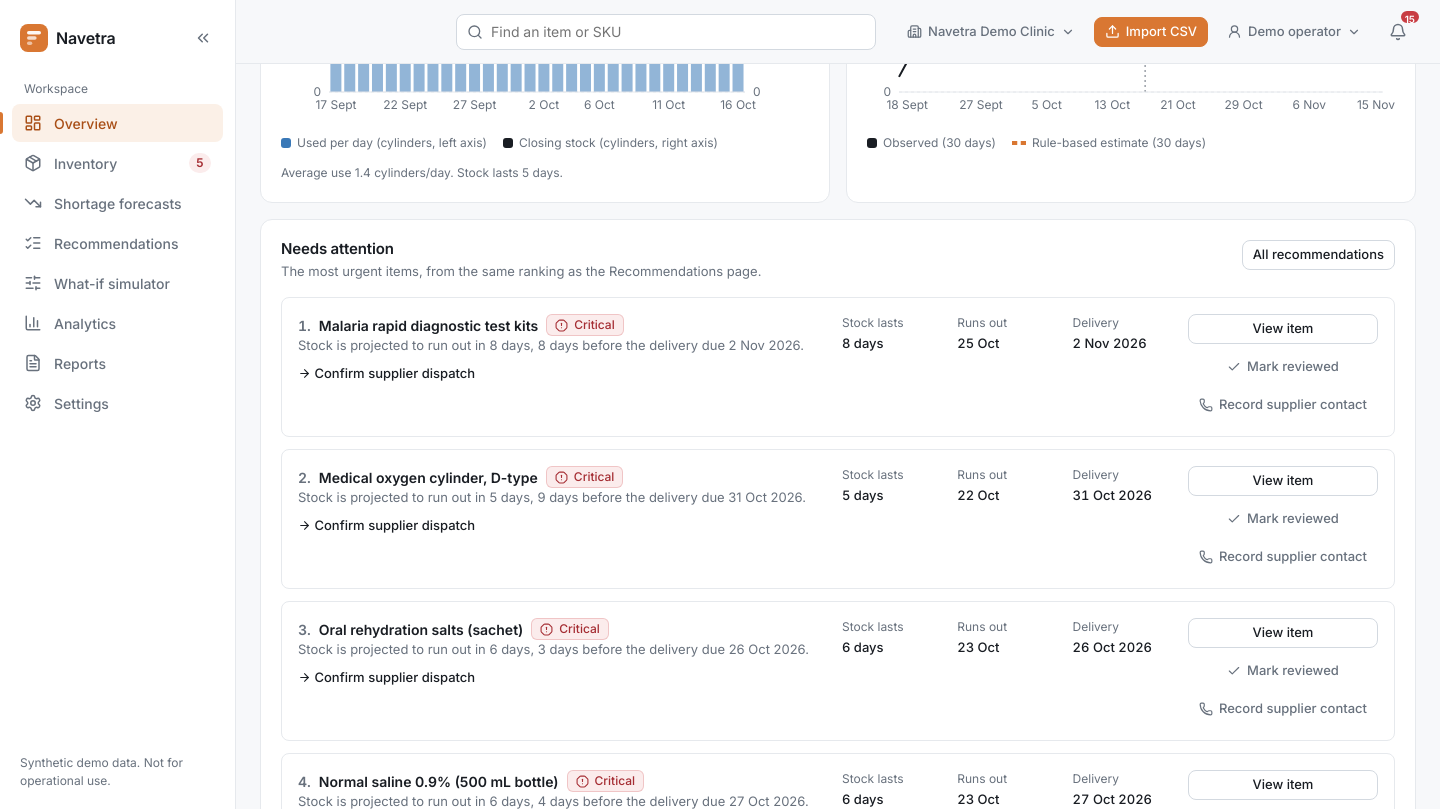
Test: every page renders with the demo data › records a supplier contact only as a note, through a dialog
The image size is (1440, 809).
(page scrolled)
Click the 1st button "Record supplier contact".
click(1283, 405)  # box [1188,390,1378,420]
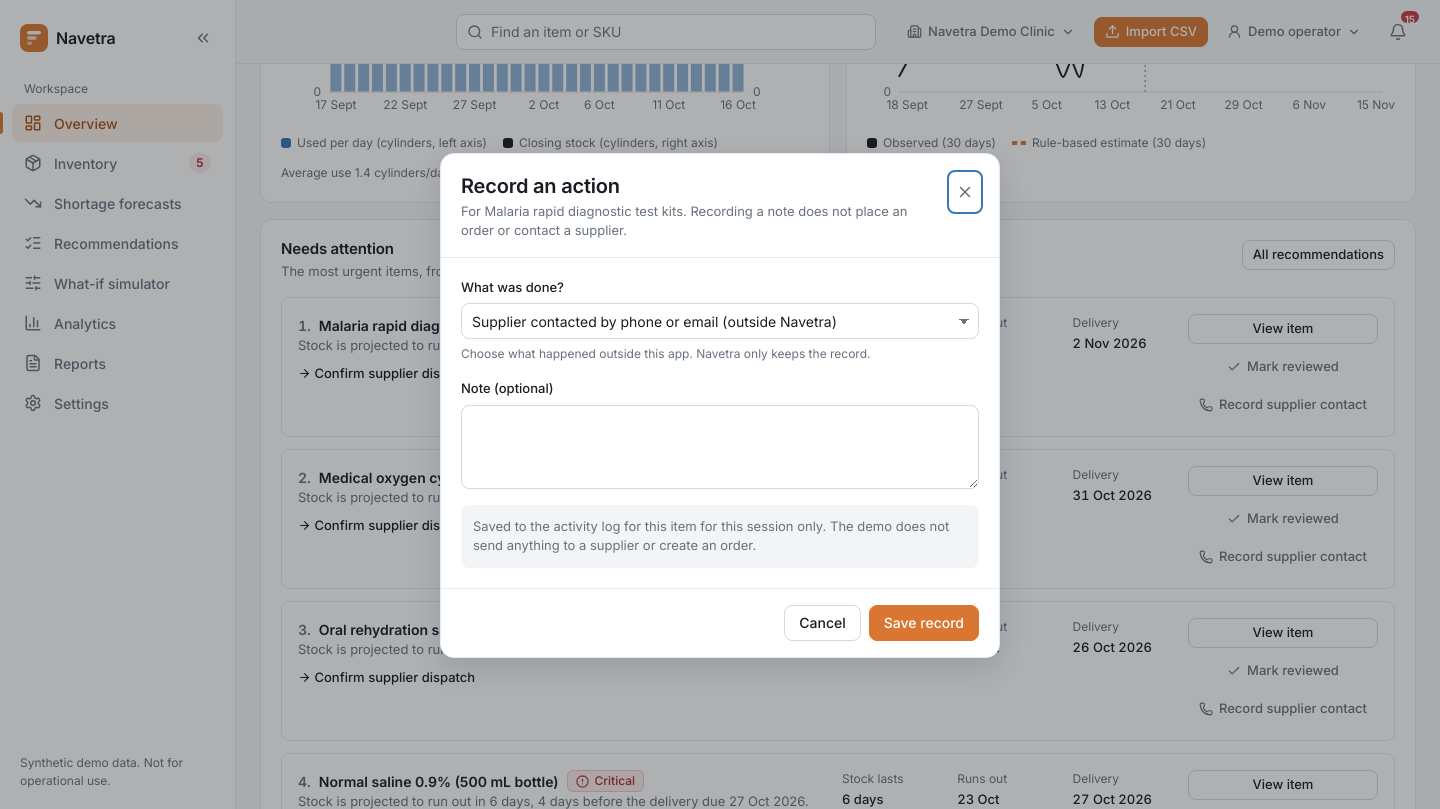
expect the dialog "Record an action" is shown: met, box [440,152,1000,658]
expect the dropdown showing "supplier contacted by phone or email" is shown: met, box [461,303,979,339]
